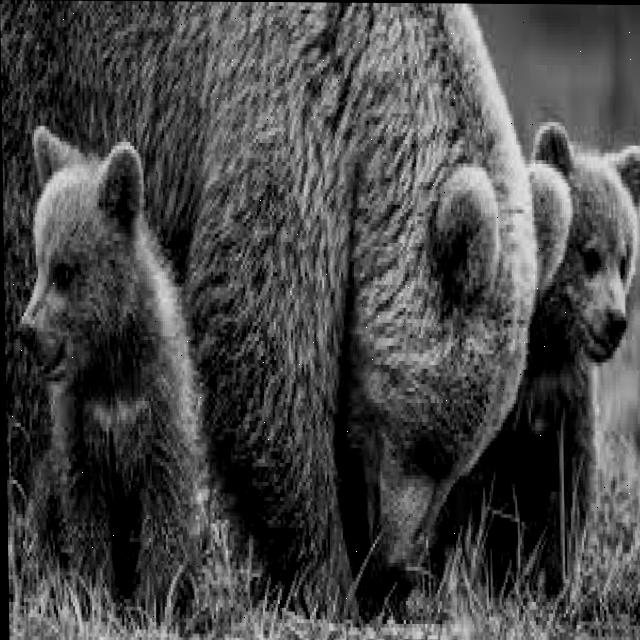Bear: (1, 0, 577, 611), (18, 119, 209, 625), (447, 121, 640, 593)
